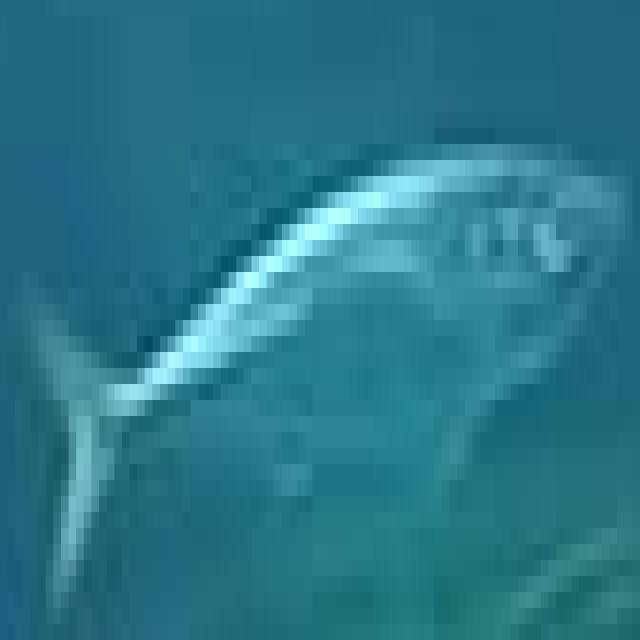fish: (0, 16, 633, 640)
